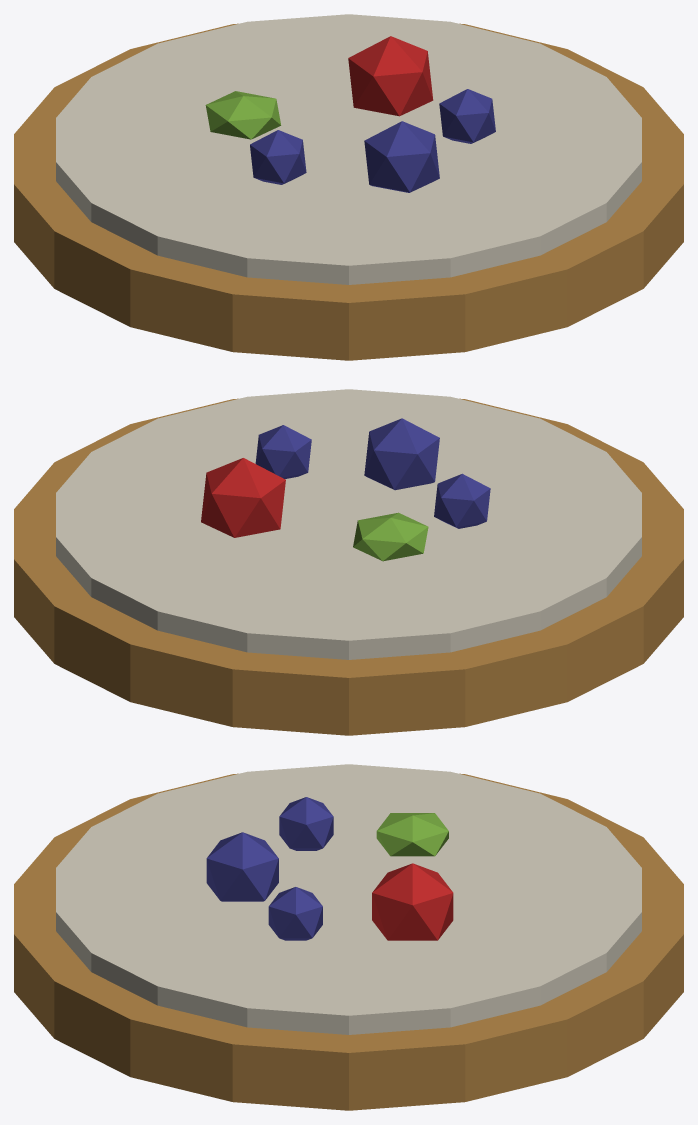
The model's file is Fruit_Tart.glb.
3 renders of one model, top to bottom at view 1: azimuth 30°, elevation 25°; view 2: azimuth 150°, elevation 25°; view 3: azimuth 270°, elevation 25°, orthographic.
Visible parts, largest first — view 1: _I_FruitTart; view 2: _I_FruitTart; view 3: _I_FruitTart.
Boxes of the visible parts, bbox=[...] form: _I_FruitTart: bbox=[14, 14, 683, 360]; _I_FruitTart: bbox=[14, 389, 683, 735]; _I_FruitTart: bbox=[14, 764, 683, 1110].
Size of the model in its own units: 0.64 by 0.145 by 0.6303.
